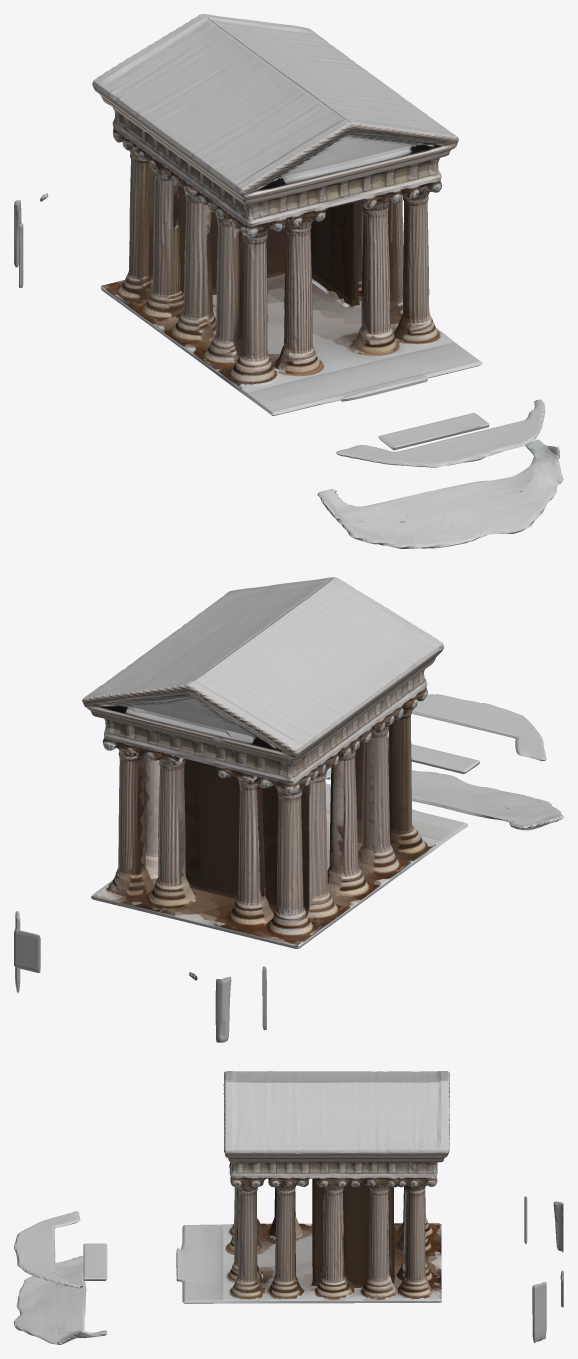
Rendered from building_marble.glb.
3 views of the same model, one above another, from view 1: azimuth 30°, elevation 25°; view 2: azimuth 150°, elevation 25°; view 3: azimuth 270°, elevation 25° (orthographic). The views are drawn at different scales.
Visible parts, largest first — view 1: textured_mesh.obj; view 2: textured_mesh.obj; view 3: textured_mesh.obj.
Boxes of the visible parts, left/top/right/bottom form: textured_mesh.obj: left=14, top=14, right=563, bottom=548; textured_mesh.obj: left=14, top=577, right=563, bottom=1042; textured_mesh.obj: left=14, top=1071, right=563, bottom=1344.
Size of the model in its own units: 0.7784 by 0.9371 by 1.99.
Materials: 1 (1 with a texture image).
